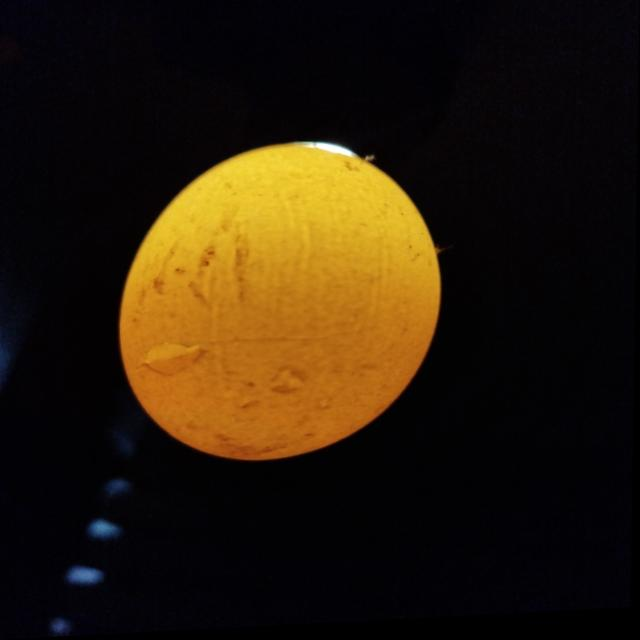Rachadura: (145, 346, 204, 378)
